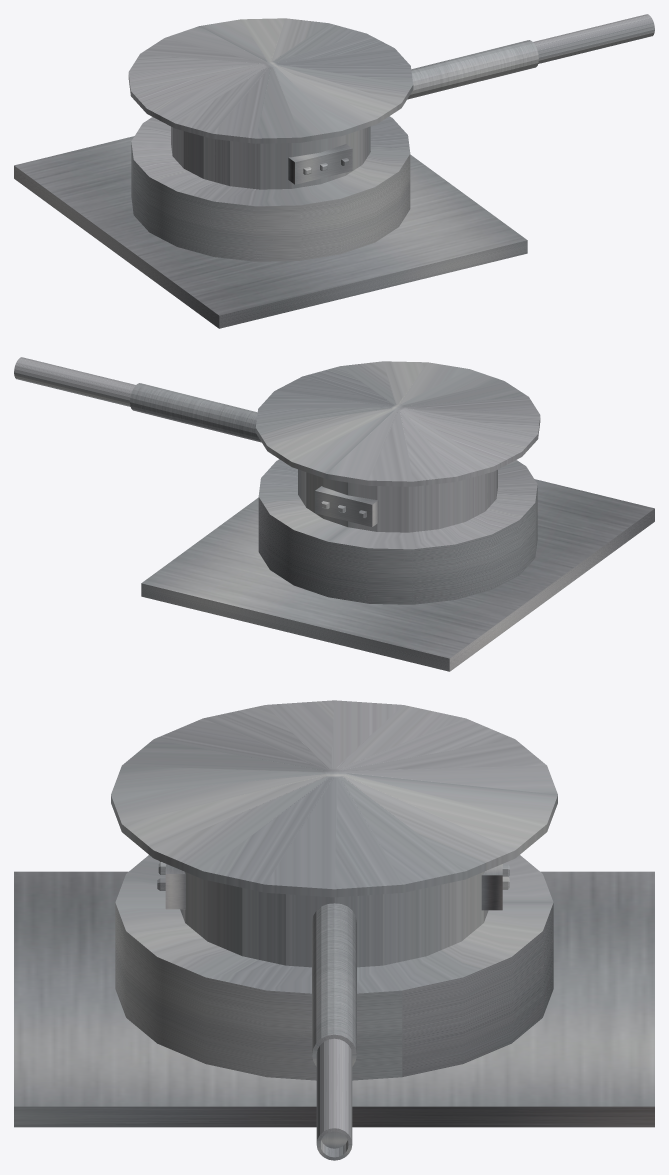
File: Turret_3_mesh_point.fbx
3 views of the same model, one above another, from view 1: azimuth 30°, elevation 25°; view 2: azimuth 150°, elevation 25°; view 3: azimuth 270°, elevation 25° (orthographic). The views are drawn at different scales.
Parts seen in each view (by area): view 1: polySurface1, polySurface2; view 2: polySurface1, polySurface2; view 3: polySurface1, polySurface2.
Boxes of the visible parts, x1,y1,x2,y2 form: polySurface1: [14, 18, 527, 328]; polySurface2: [171, 14, 654, 189]; polySurface1: [141, 361, 654, 671]; polySurface2: [14, 357, 497, 532]; polySurface1: [14, 700, 654, 1127]; polySurface2: [157, 861, 509, 1160].
Bounding box in the file's own units: 9.41 × 2.56 × 6.27.
Materials: 1 (1 with a texture image).
